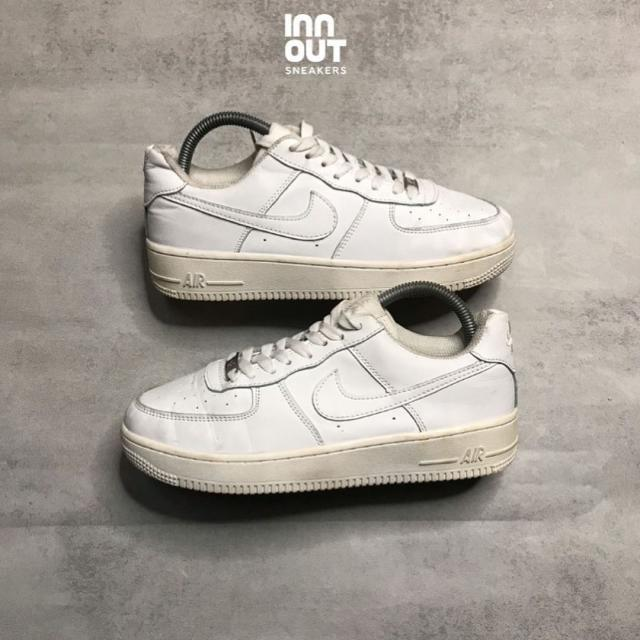nike fake air force: (124, 290, 531, 498), (137, 110, 516, 304)
